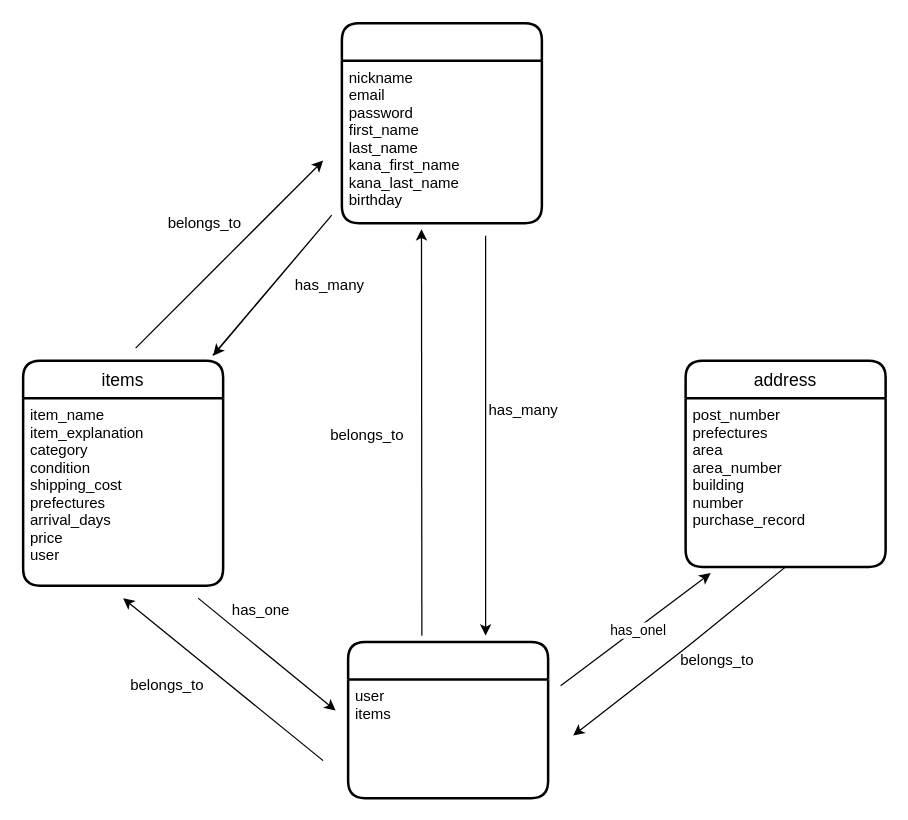
Some shapes in this 908 by 820 pixel diagram are drawn without their labels. Here are the shapes that lost their labels. From the top down, the box of each, then its label:
(340, 21, 542, 224): users
(346, 640, 549, 799): purchase_record
